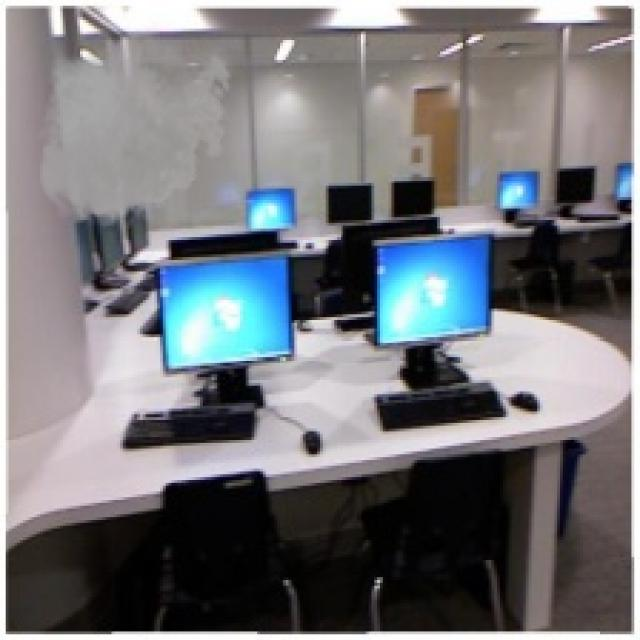smoke: (32, 20, 237, 234)
